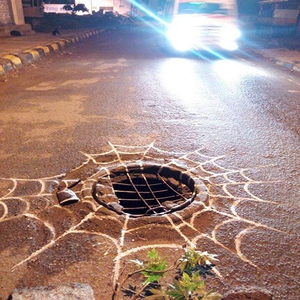pothole: (87, 163, 202, 225)
